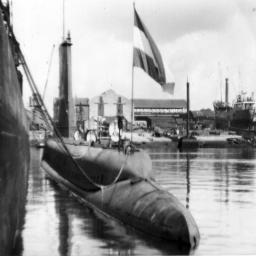submarine: (39, 28, 204, 249)
